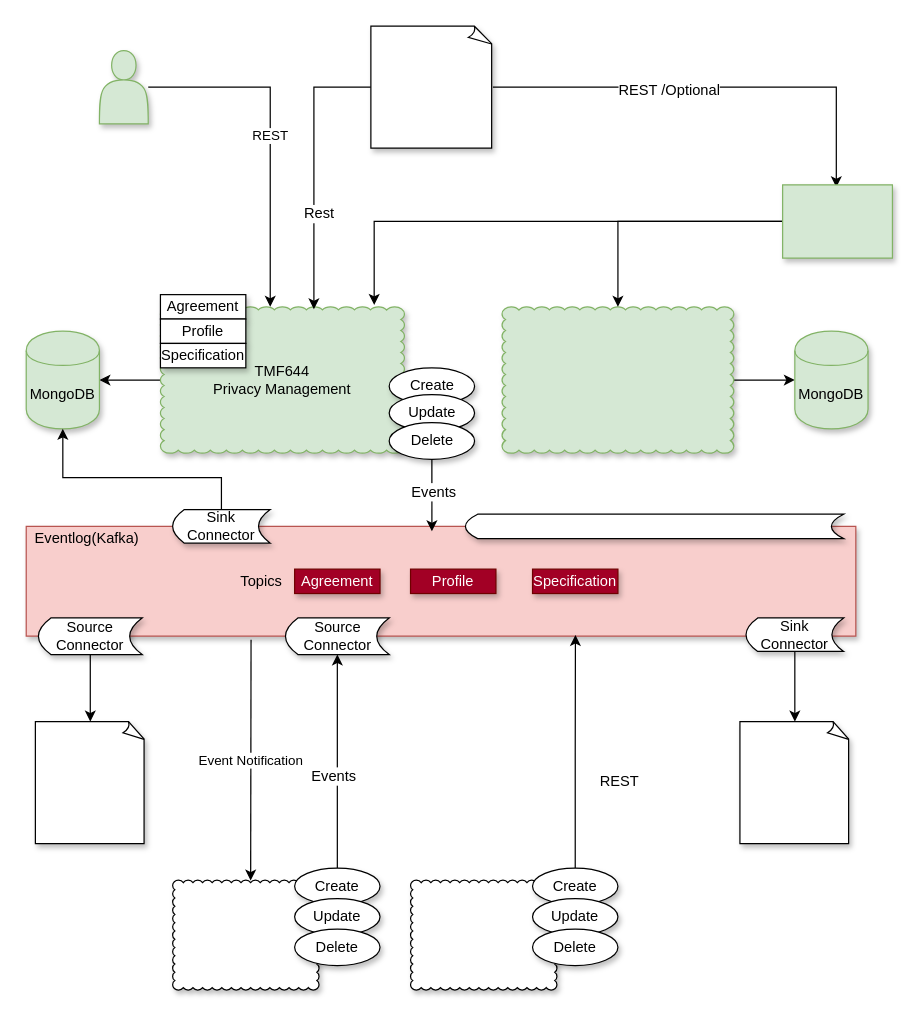
Some shapes in this 921 by 1020 pixel diagram are drawn without their labels. The shapes that lost their labels are listed below. From the top down, each one's centre as x and y in pixels, then its label:
[124,88]: Consumer
[432,88]: GK-Systeme
[838,223]: GraphQL
[618,381]: TMF632 PartyManagement
[655,527]: Streams
[90,784]: File Upload
[795,784]: File Download
[246,936]: MagentaForce
[484,936]: TIVU
